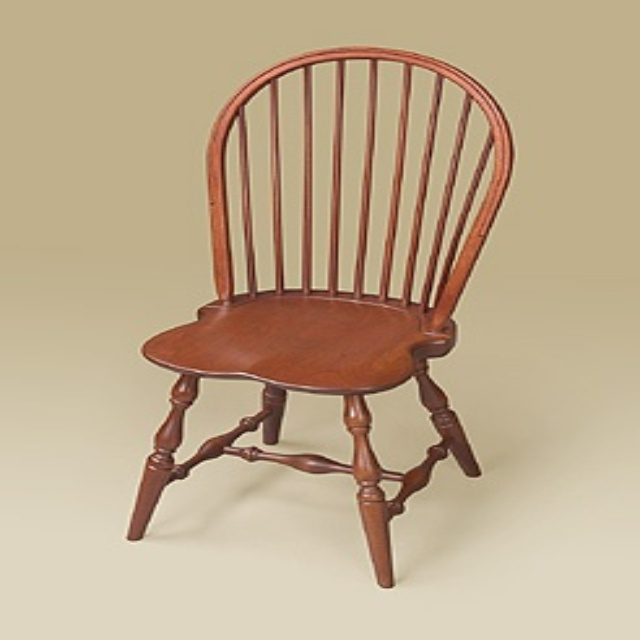obstacle: (127, 48, 510, 587)
